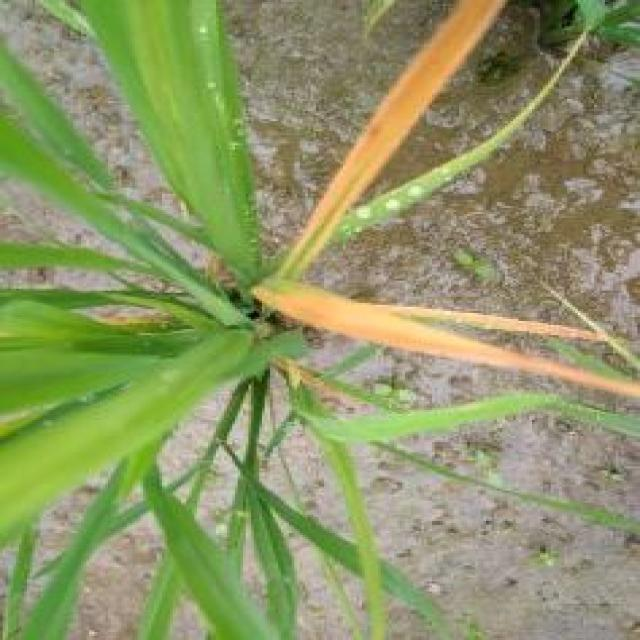Tungro: (253, 5, 563, 264), (255, 272, 640, 412)
